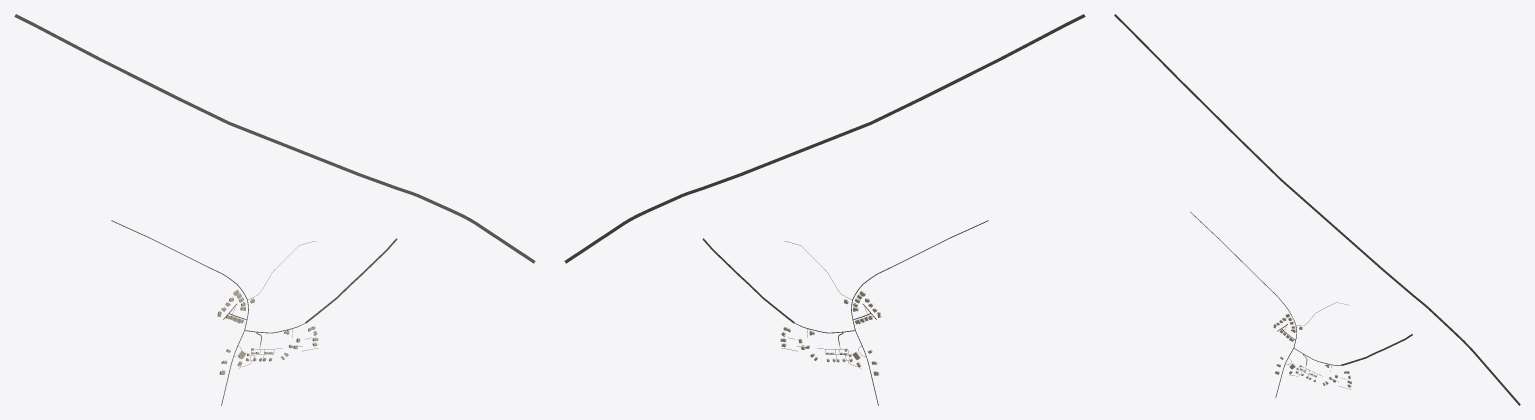
Rendered from historic-palestine-03_20_3454_3145.glb.
The picture shows the model from 3 angles, left to right: view 1: azimuth 30°, elevation 25°; view 2: azimuth 150°, elevation 25°; view 3: azimuth 330°, elevation 25°; orthographic projection. The views are drawn at different scales.
Parts seen in each view (by area): view 1: Road 25; view 2: Road 25; view 3: Road 25.
Boxes of the visible parts, x1,y1,x2,y2 form: Road 25: (14,14,535,263); Road 25: (564,14,1085,263); Road 25: (1114,14,1520,405).
Size of the model in its own units: 2233 by 1810 by 8.7.
